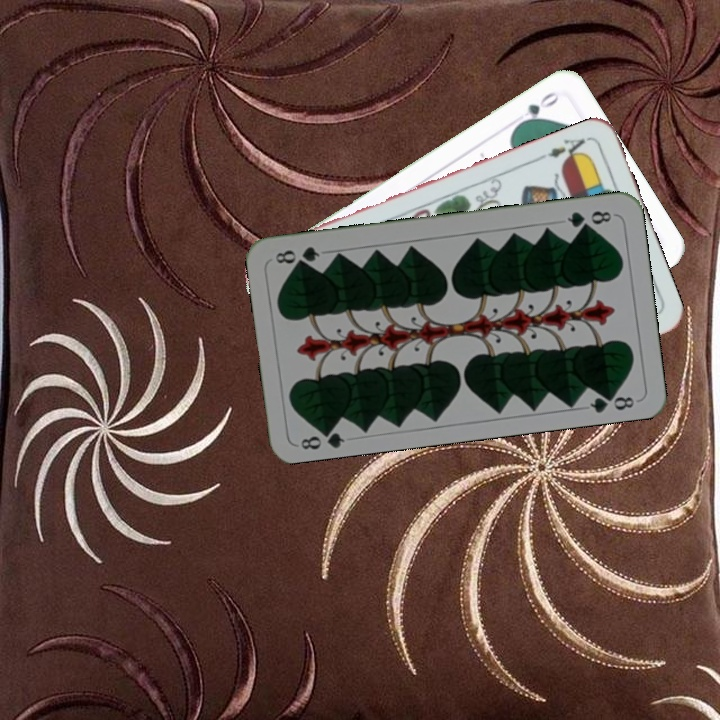EA: (535, 133, 592, 165)
G8: (297, 422, 347, 452), (563, 206, 617, 231)
GO: (512, 87, 563, 130)
